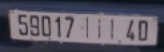0: (137, 20, 149, 43), (41, 15, 52, 37)
1: (54, 14, 62, 39)
4: (126, 18, 135, 42)
5: (16, 12, 29, 36)
7: (64, 15, 78, 38)
9: (29, 14, 40, 37)
a: (95, 16, 104, 39)
